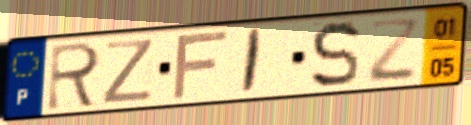F: (169, 28, 232, 104)
I: (238, 25, 266, 97)
R: (44, 39, 105, 113)
S: (308, 19, 363, 92)
Z: (99, 36, 157, 106), (365, 17, 422, 85)
